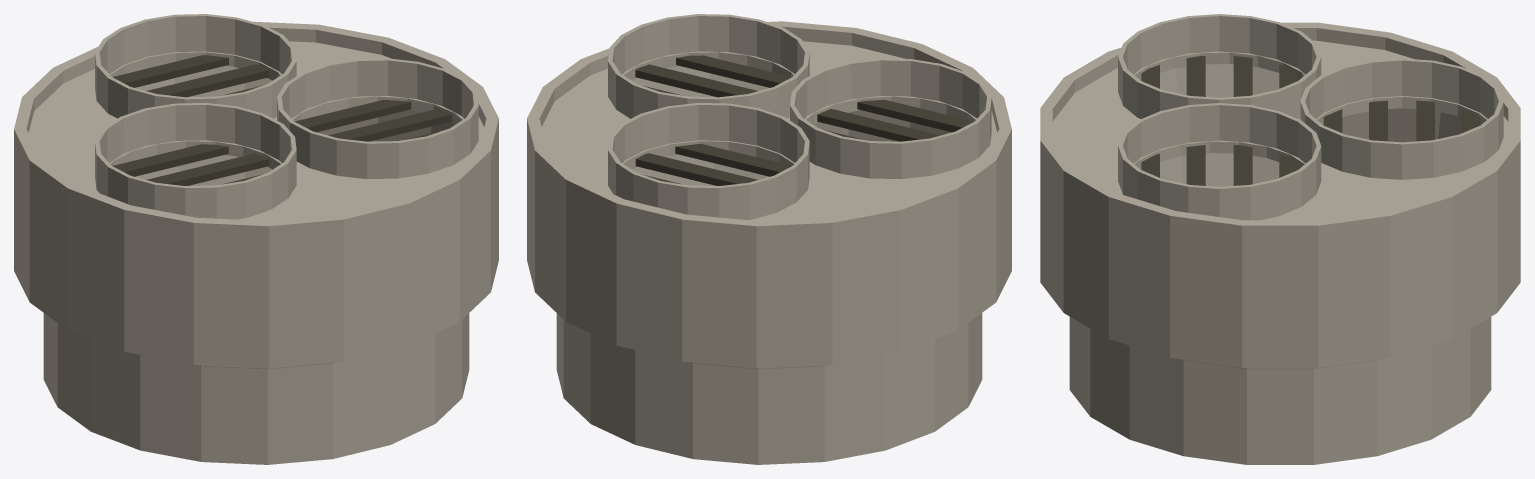
The model's file is SM_Cart_BaoPot_01.fbx.
The picture shows the model from 3 angles, left to right: view 1: azimuth 30°, elevation 25°; view 2: azimuth 150°, elevation 25°; view 3: azimuth 270°, elevation 25°; orthographic projection.
Parts seen in each view (by area): view 1: SM_Cart_BaoPot_01; view 2: SM_Cart_BaoPot_01; view 3: SM_Cart_BaoPot_01.
Boxes of the visible parts, box(x1,y1,x2,y2) form: SM_Cart_BaoPot_01: box(14, 14, 498, 464); SM_Cart_BaoPot_01: box(527, 14, 1011, 464); SM_Cart_BaoPot_01: box(1040, 14, 1520, 464).
Bounding box in the file's own units: 0.6124 × 0.386 × 0.6124.
1 material, 1 textured.
